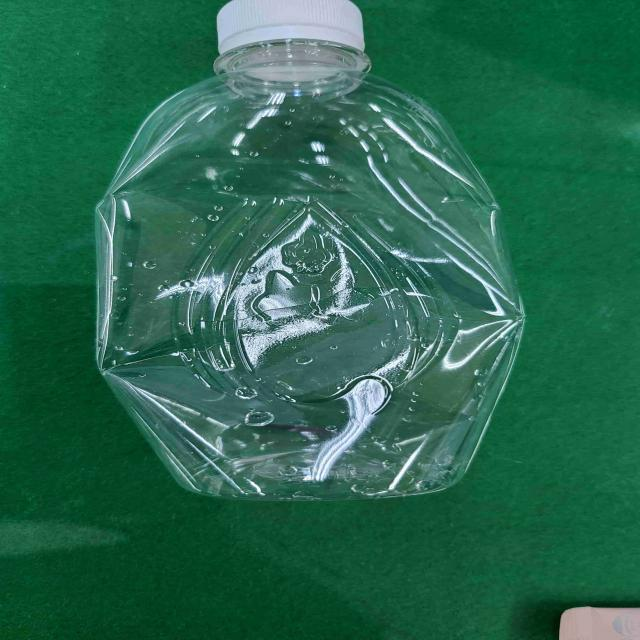chai: (98, 0, 524, 498)
